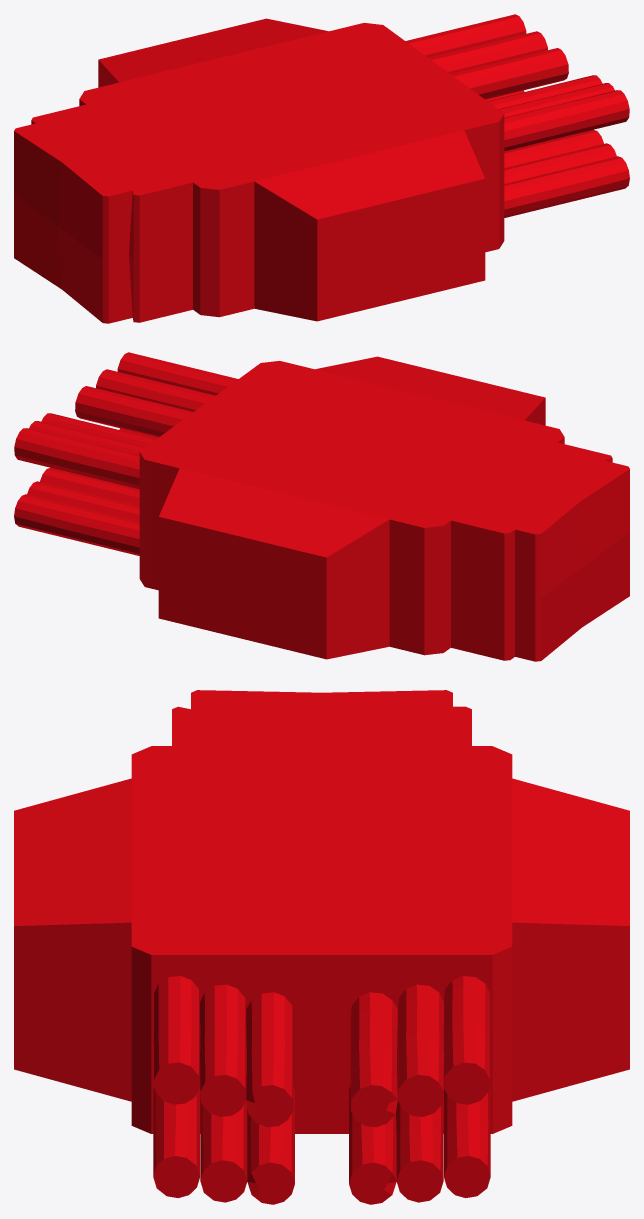
The model's file is weapon_4.fbx.
3 renders of one model, top to bottom at view 1: azimuth 30°, elevation 25°; view 2: azimuth 150°, elevation 25°; view 3: azimuth 270°, elevation 25°, orthographic. The views are drawn at different scales.
Parts seen in each view (by area): view 1: weapon_4; view 2: weapon_4; view 3: weapon_4.
Part boxes in pixels (box(x1,y1,x2,y2)): weapon_4: box(14, 14, 629, 323); weapon_4: box(14, 352, 629, 661); weapon_4: box(14, 690, 629, 1204).
Size of the model in its own units: 121 by 28.31 by 88.21.
